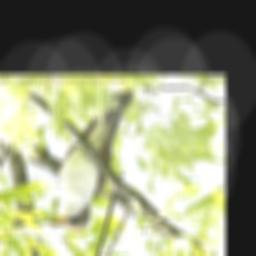Cuckoo: (49, 86, 134, 234)
